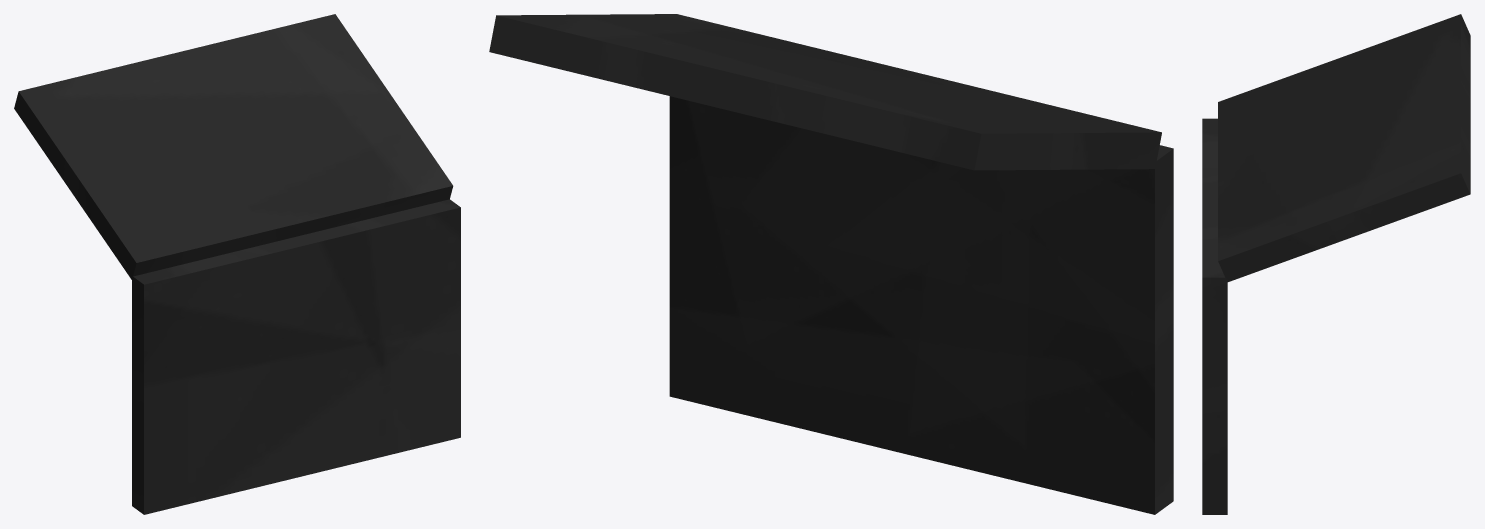
File: laptop01.fbx
3 renders of one model, left to right at view 1: azimuth 30°, elevation 25°; view 2: azimuth 150°, elevation 25°; view 3: azimuth 270°, elevation 25°, orthographic. The views are drawn at different scales.
Visible parts, largest first — view 1: laptop01; view 2: laptop01; view 3: laptop01.
Part boxes in pixels (x1,y1,x2,y2): laptop01: [14, 14, 460, 514]; laptop01: [489, 14, 1173, 514]; laptop01: [1202, 14, 1470, 514].
Bounding box in the file's own units: 0.6152 × 0.6157 × 0.4376.
Materials: 1 (1 with a texture image).
